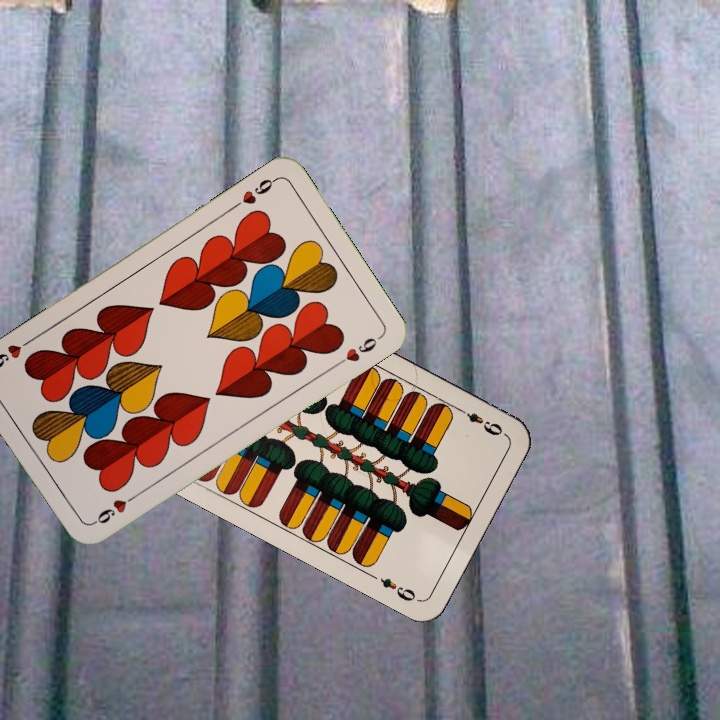E9: (454, 403, 506, 439)
H9: (228, 173, 280, 212), (88, 490, 141, 527)
